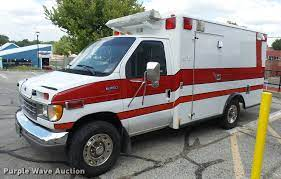special: (15, 10, 266, 172)
